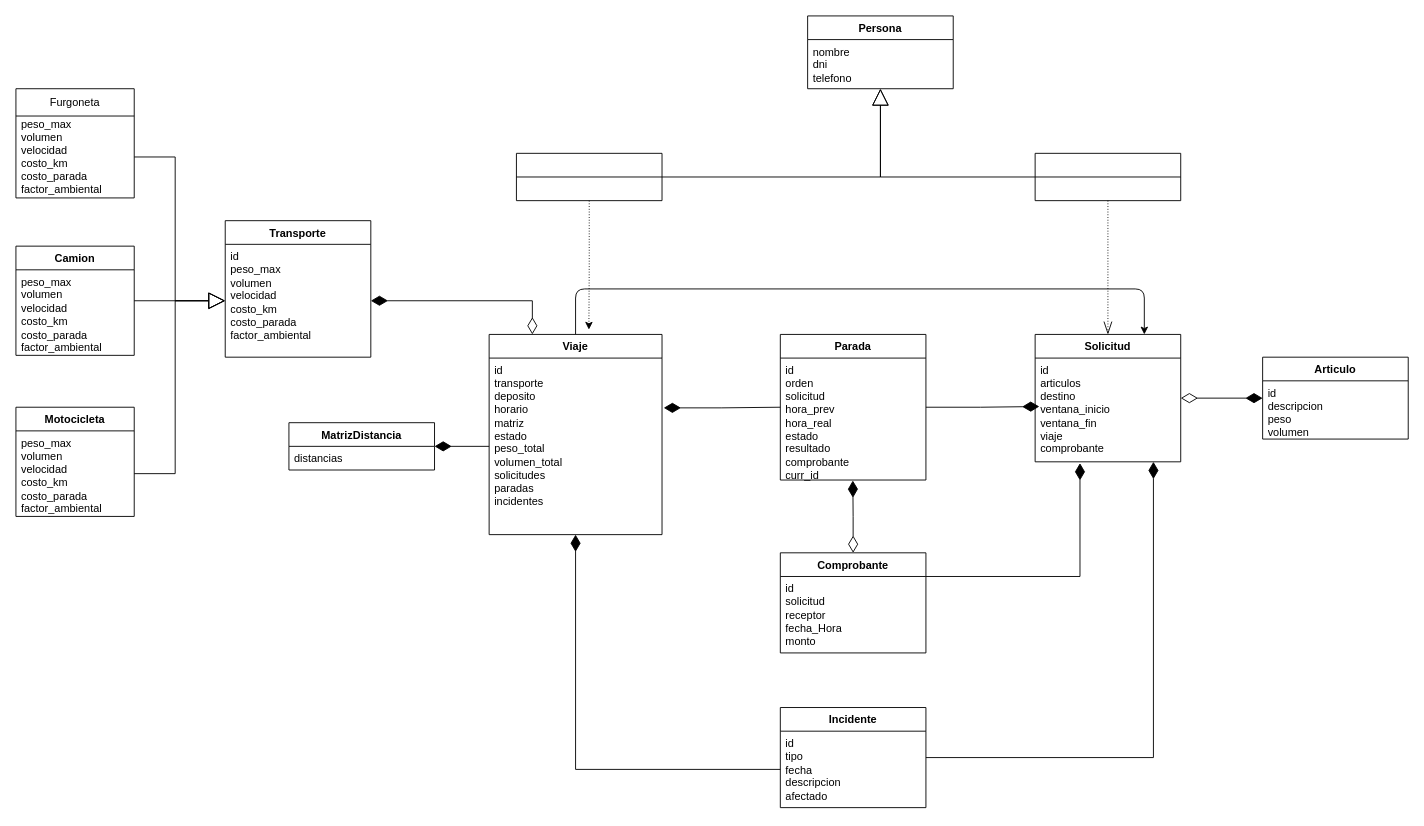
This 1424x826 diagram has some shape labels left out. The centre of each missing label's shape, as x and y in pixels:
"Administrador" belongs at (589,176).
"Solicitante" belongs at (1107,176).
